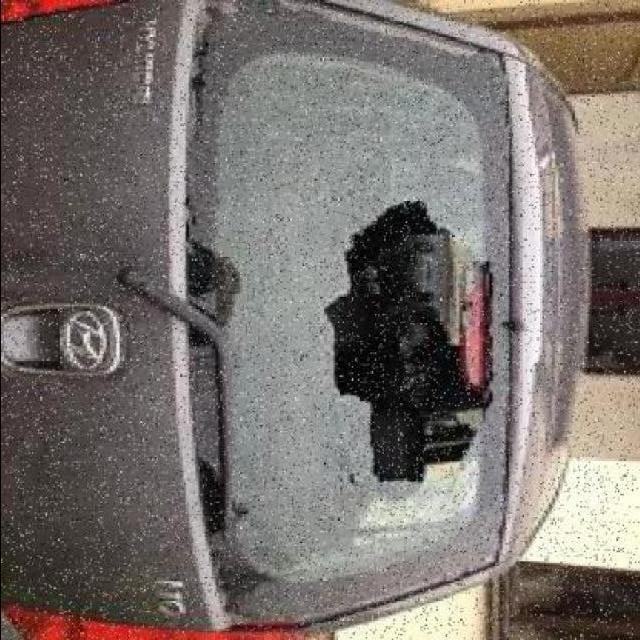Rear-windscreen-Damage: (164, 3, 534, 633)
